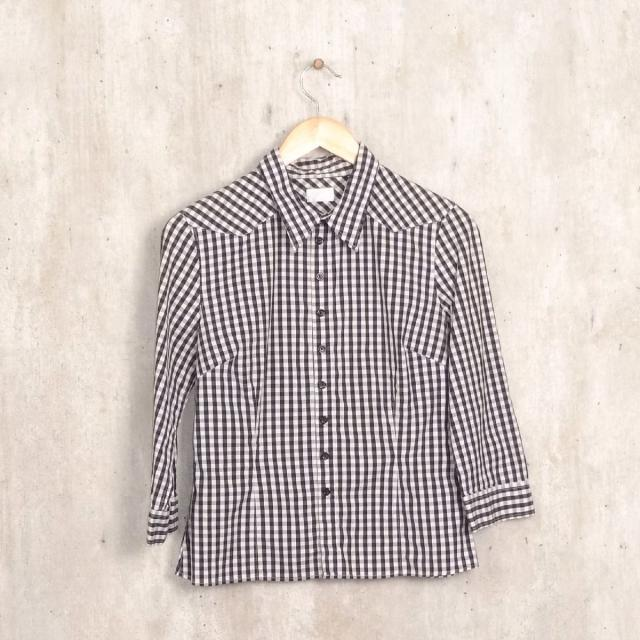long sleeve shirt: (145, 140, 536, 589)
